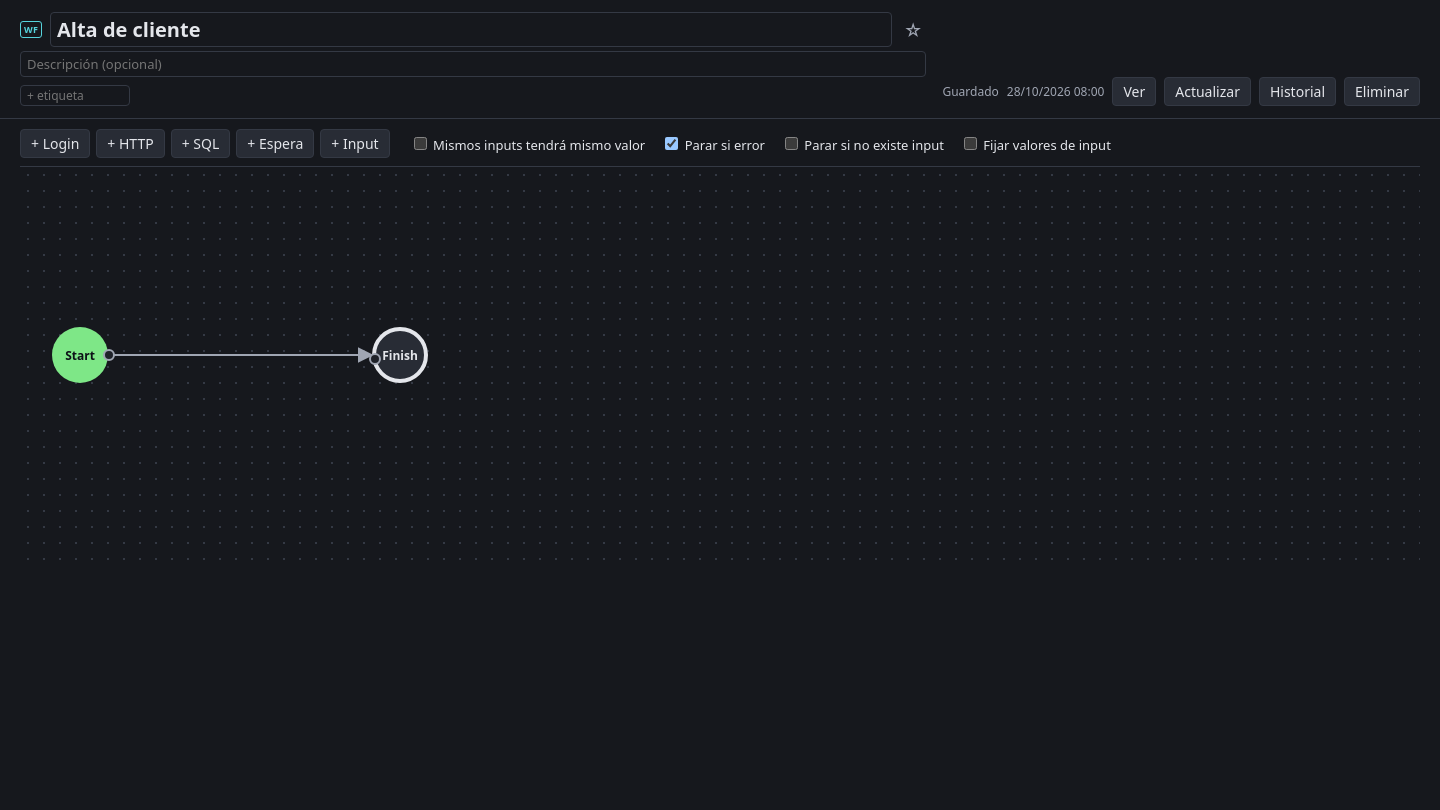
notas workflow › W-22 W-23 elegir la nota propone el nombre y muestra sus variables con sus valores
Click the button "+ HTTP" at (130, 144), box [96,129,165,158]
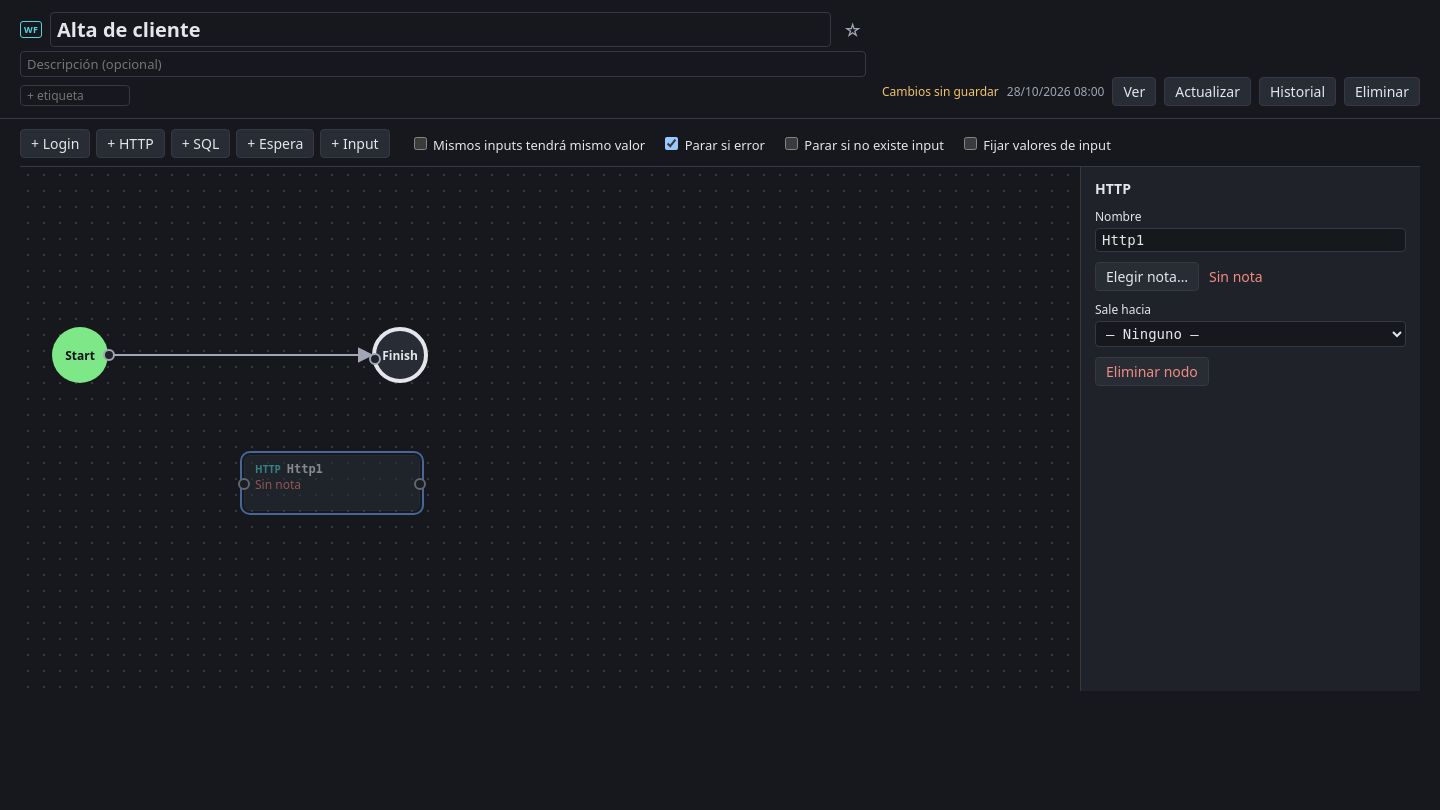
Click the button "Elegir nota…" at (1147, 276), box [1095,262,1199,291]
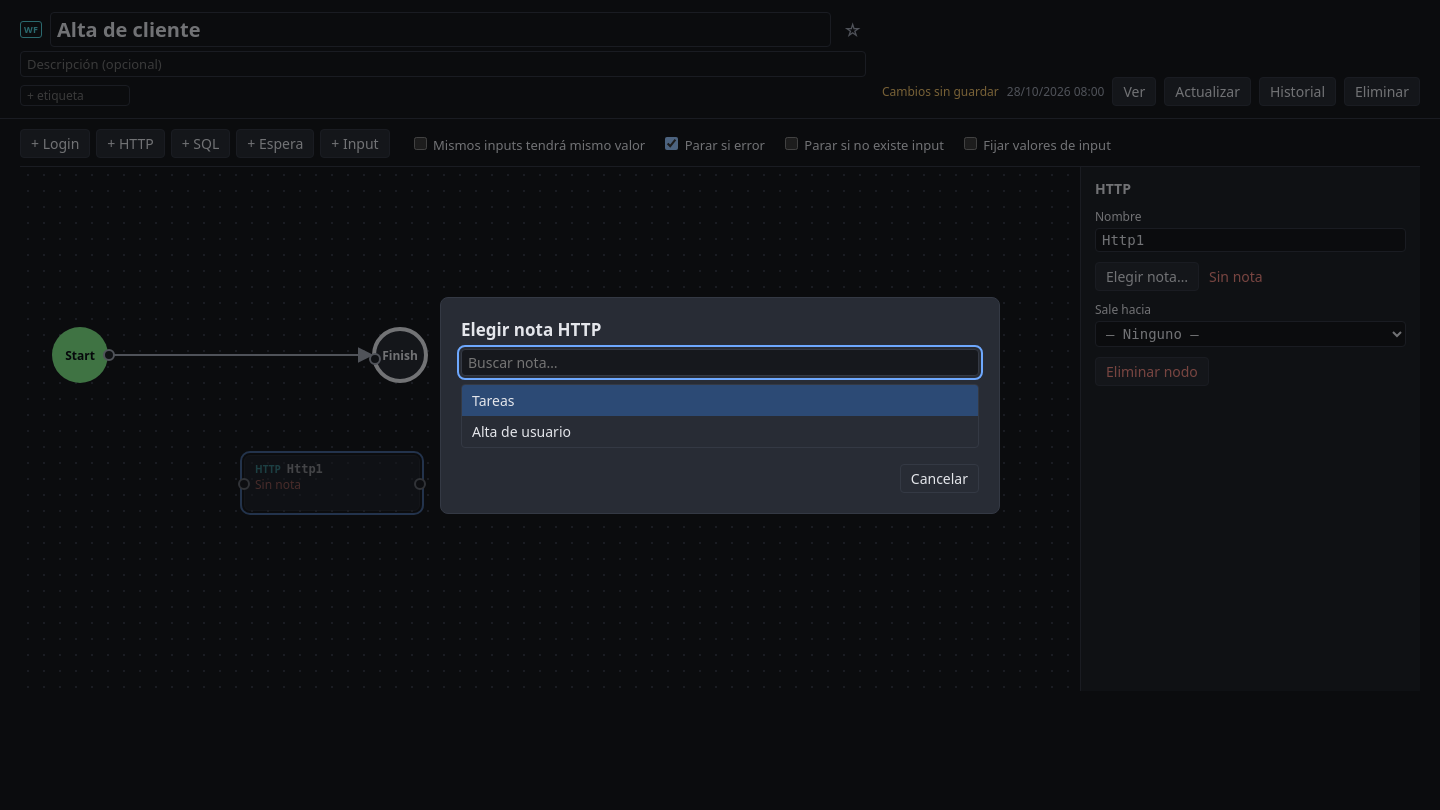
Click the option "Alta de usuario" at (522, 431), box [472,422,571,440]
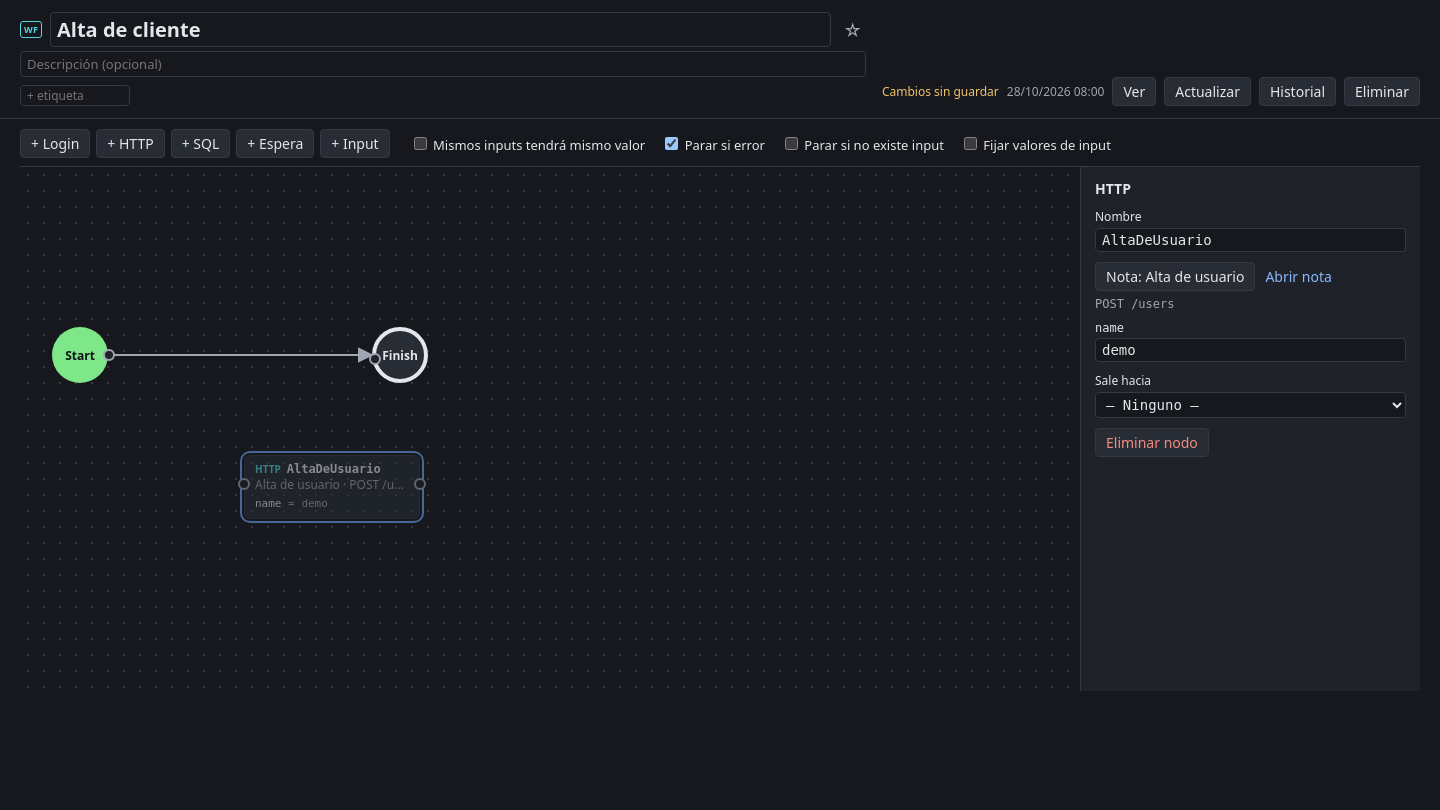
Expected: the field labelled "name" holds "demo", [1095,338,1406,362]
